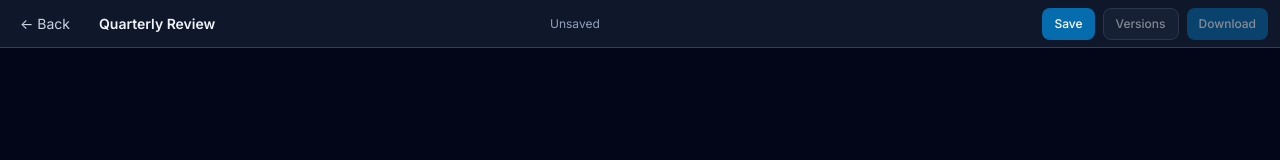
Scenario: EditorPage › warns before unloading only while dirty or awaiting persistence
Click the button "Save": (1068, 24) 1042,8 -> 1094,40
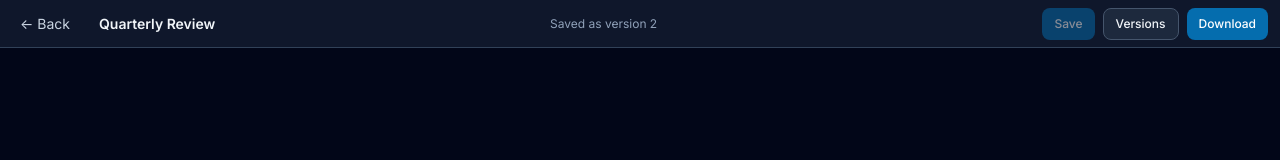
Result: the text "Saved as version 2" is shown at 550,16 -> 657,32
